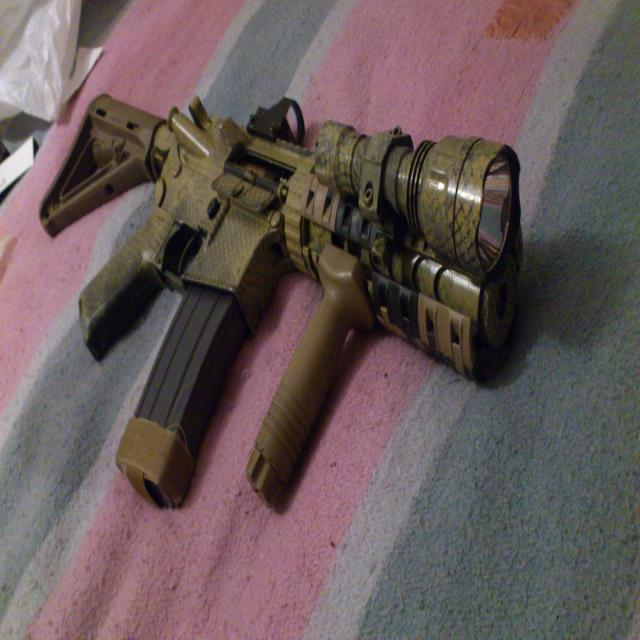firearm: (37, 94, 527, 512)
